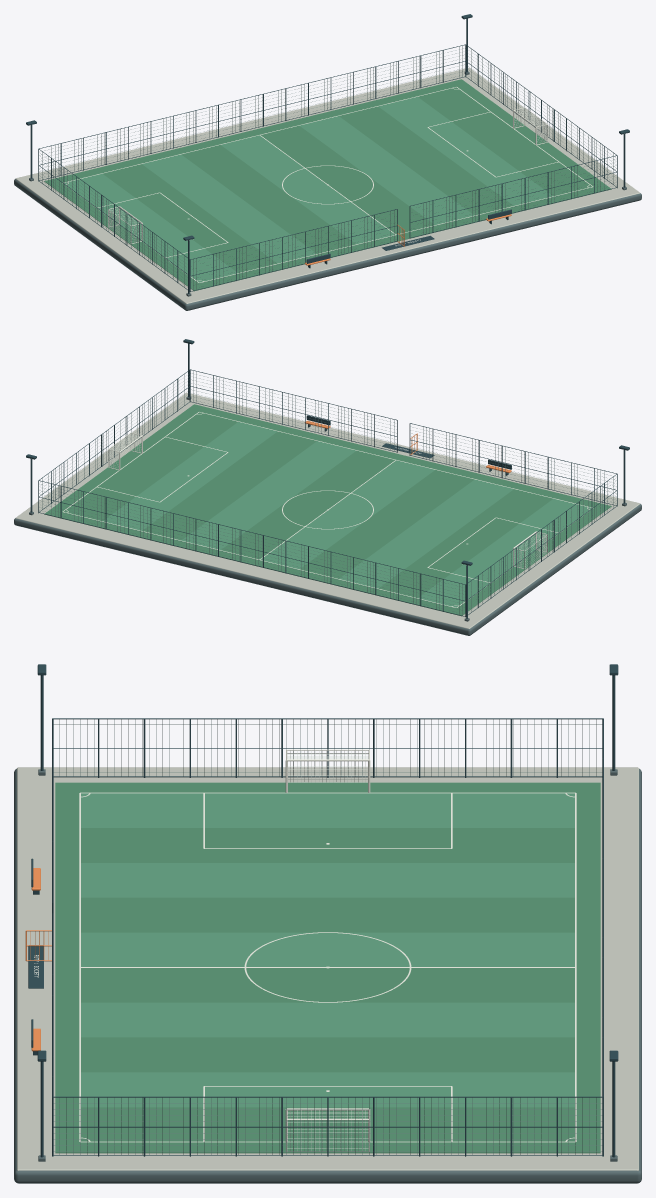
Rendered from fut7.glb.
3 views of the same model, one above another, from view 1: azimuth 30°, elevation 25°; view 2: azimuth 150°, elevation 25°; view 3: azimuth 270°, elevation 25° (orthographic). The views are drawn at different scales.
Parts seen in each view (by area): view 1: 02_Passeio_perimetral, 03_Gramado_base, 05_Alambrado_malha, 04_Alambrado_estrutura, Grama_faixa_06, Grama_faixa_07, Grama_faixa_02, Grama_faixa_03, Grama_faixa_08, Grama_faixa_01, Grama_faixa_04, Grama_faixa_09 (+4 smaller); view 2: 02_Passeio_perimetral, 03_Gramado_base, 05_Alambrado_malha, 04_Alambrado_estrutura, Grama_faixa_07, Grama_faixa_02, Grama_faixa_08, Grama_faixa_03, Grama_faixa_01, Grama_faixa_06, Grama_faixa_09, Grama_faixa_04 (+4 smaller); view 3: 02_Passeio_perimetral, 03_Gramado_base, Grama_faixa_03, Grama_faixa_06, Grama_faixa_07, Grama_faixa_08, Grama_faixa_02, Grama_faixa_01, Grama_faixa_05, Grama_faixa_00, Grama_faixa_04, Grama_faixa_09 (+6 smaller).
Boxes of the visible parts, <box> form: 02_Passeio_perimetral: <box>15,67,640,303</box>; 03_Gramado_base: <box>44,79,611,291</box>; 05_Alambrado_malha: <box>39,46,616,290</box>; 04_Alambrado_estrutura: <box>38,44,617,292</box>; Grama_faixa_06: <box>299,116,474,224</box>; Grama_faixa_07: <box>339,106,513,215</box>; Grama_faixa_02: <box>142,154,316,263</box>; Grama_faixa_03: <box>181,145,355,253</box>; Grama_faixa_08: <box>378,97,552,205</box>; Grama_faixa_01: <box>103,164,277,272</box>; Grama_faixa_04: <box>221,135,395,244</box>; Grama_faixa_09: <box>418,87,592,196</box>; 02_Passeio_perimetral: <box>15,392,640,628</box>; 03_Gramado_base: <box>44,404,611,616</box>; 05_Alambrado_malha: <box>39,371,616,615</box>; 04_Alambrado_estrutura: <box>38,369,617,617</box>; Grama_faixa_07: <box>142,431,316,540</box>; Grama_faixa_02: <box>339,479,513,588</box>; Grama_faixa_08: <box>103,422,277,530</box>; Grama_faixa_03: <box>300,470,474,578</box>; Grama_faixa_01: <box>378,489,552,597</box>; Grama_faixa_06: <box>181,441,356,549</box>; Grama_faixa_09: <box>63,412,237,521</box>; Grama_faixa_04: <box>260,460,434,569</box>; 02_Passeio_perimetral: <box>17,767,638,1170</box>; 03_Gramado_base: <box>55,782,600,1153</box>; Grama_faixa_03: <box>81,897,574,932</box>; Grama_faixa_06: <box>81,1002,574,1037</box>; Grama_faixa_07: <box>81,1037,574,1072</box>; Grama_faixa_08: <box>81,1072,574,1107</box>; Grama_faixa_02: <box>81,863,574,897</box>; Grama_faixa_01: <box>81,828,574,862</box>; Grama_faixa_05: <box>81,968,574,1002</box>; Grama_faixa_00: <box>81,793,574,827</box>; Grama_faixa_04: <box>81,932,574,966</box>; Grama_faixa_09: <box>81,1107,574,1141</box>.
Bounding box in the file's own units: 58 × 8.1 × 38.
